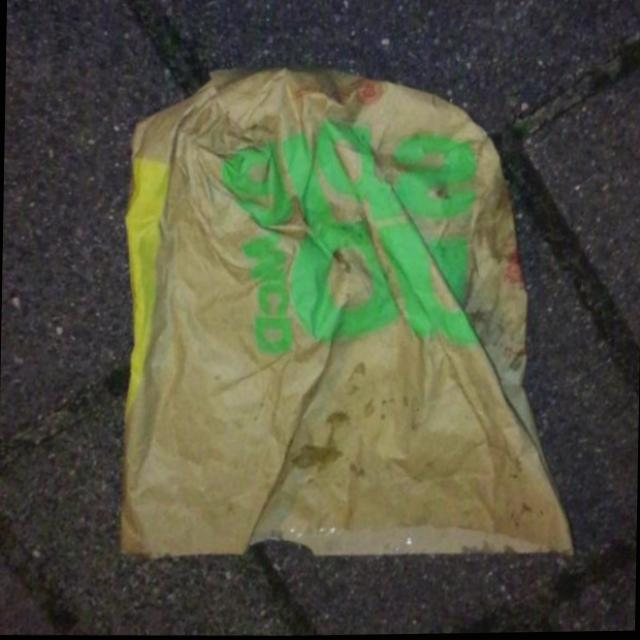Paper: (112, 56, 586, 568)
